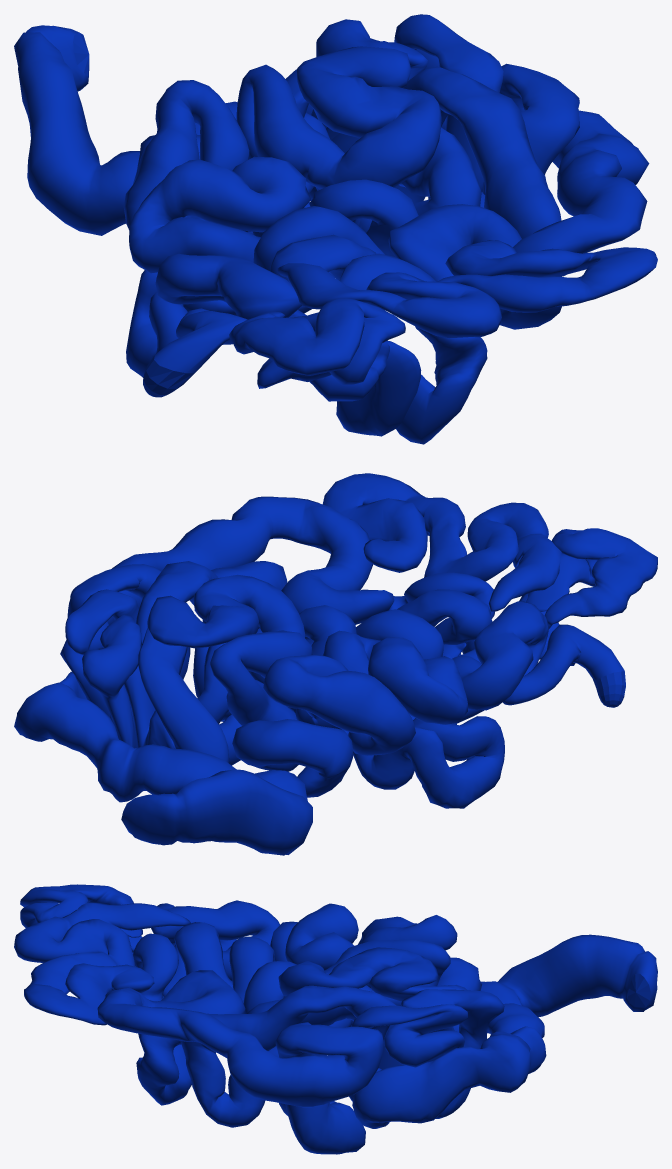
Rendered from SmallIntestine.fbx.
3 views of the same model, one above another, from view 1: azimuth 30°, elevation 25°; view 2: azimuth 150°, elevation 25°; view 3: azimuth 270°, elevation 25° (orthographic). The views are drawn at different scales.
Visible parts, largest first — view 1: Smallintestine; view 2: Smallintestine; view 3: Smallintestine.
Boxes of the visible parts, x1,y1,x2,y2 form: Smallintestine: (14,14,657,444); Smallintestine: (14,473,657,855); Smallintestine: (14,884,657,1154).
Size of the model in its own units: 193 by 79.9 by 265.
